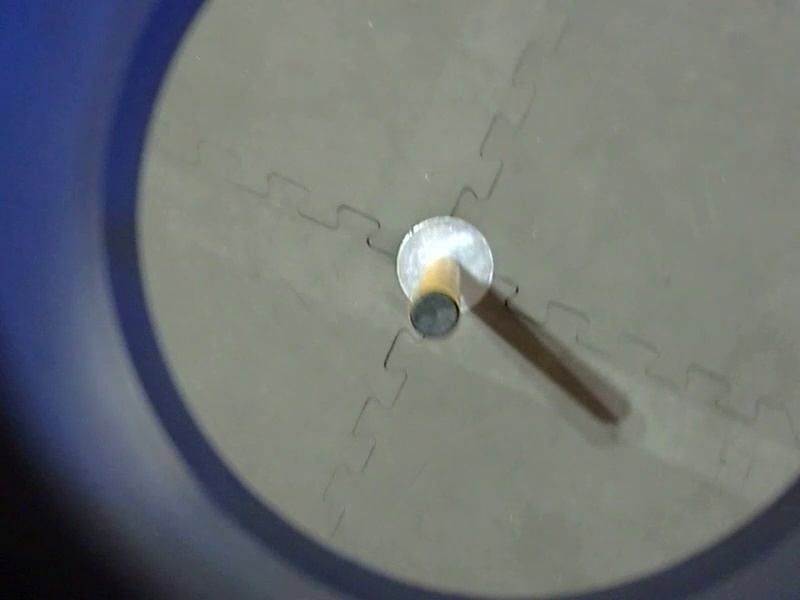tip: (128, 238, 228, 336)
